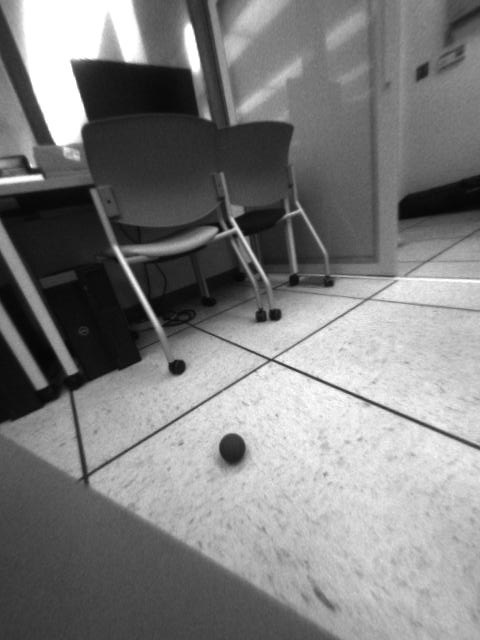dogtoy: (213, 424, 253, 469)
